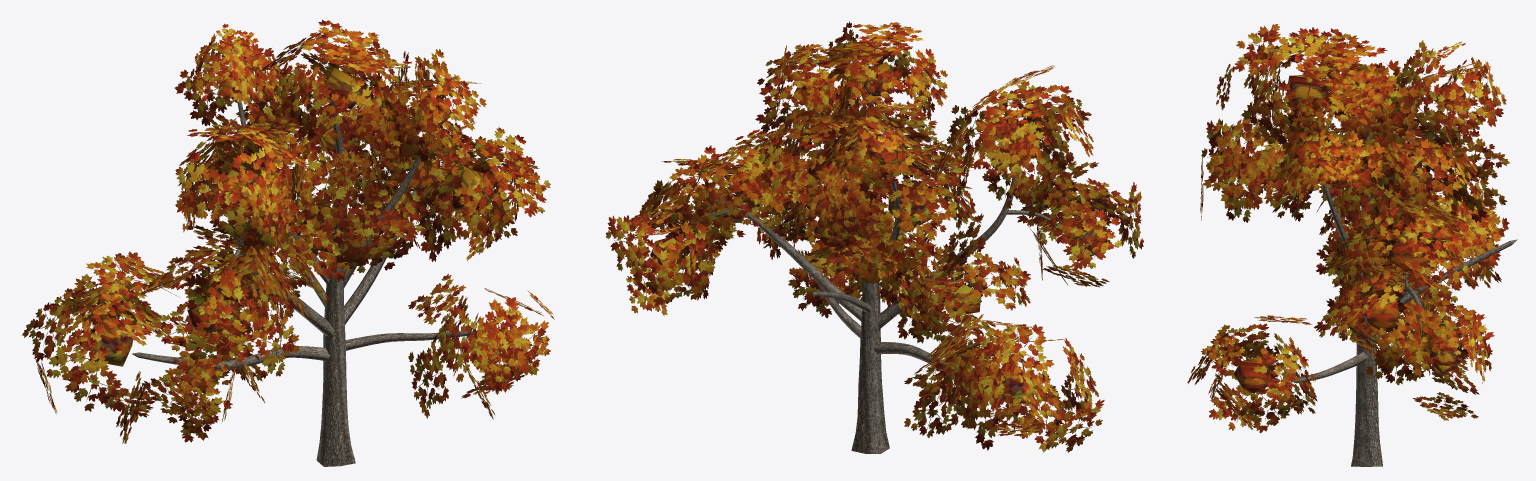
Rendered from mm8_deco_tree62c.glb.
The picture shows the model from 3 angles, left to right: view 1: azimuth 30°, elevation 25°; view 2: azimuth 150°, elevation 25°; view 3: azimuth 270°, elevation 25°; orthographic projection. The views are drawn at different scales.
Parts seen in each view (by area): view 1: Tree; view 2: Tree; view 3: Tree.
Part boxes in pixels (x1,y1,x2,y2): Tree: (22, 19, 554, 466); Tree: (606, 21, 1143, 453); Tree: (1187, 24, 1517, 466).
Bounding box in the file's own units: 16.13 × 13.25 × 9.92.
Materials: 3 (3 with a texture image).
